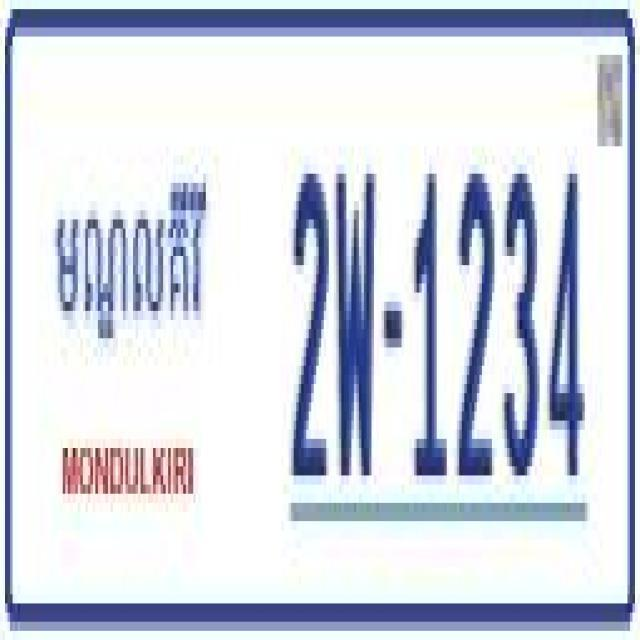Mondul_Kiri: (55, 165, 213, 366)
